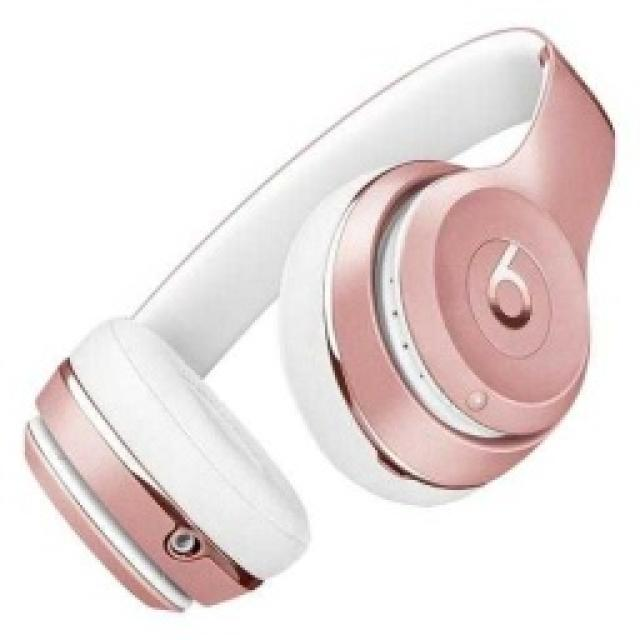headphones: (20, 22, 618, 612)
